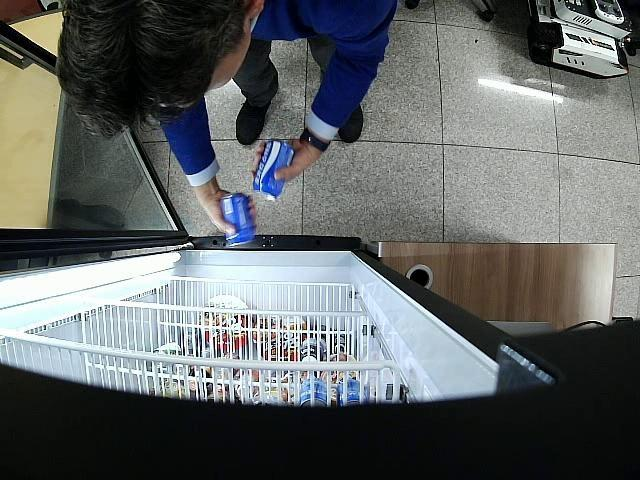13_pocariSweat: (254, 138, 294, 200), (221, 193, 255, 246)
